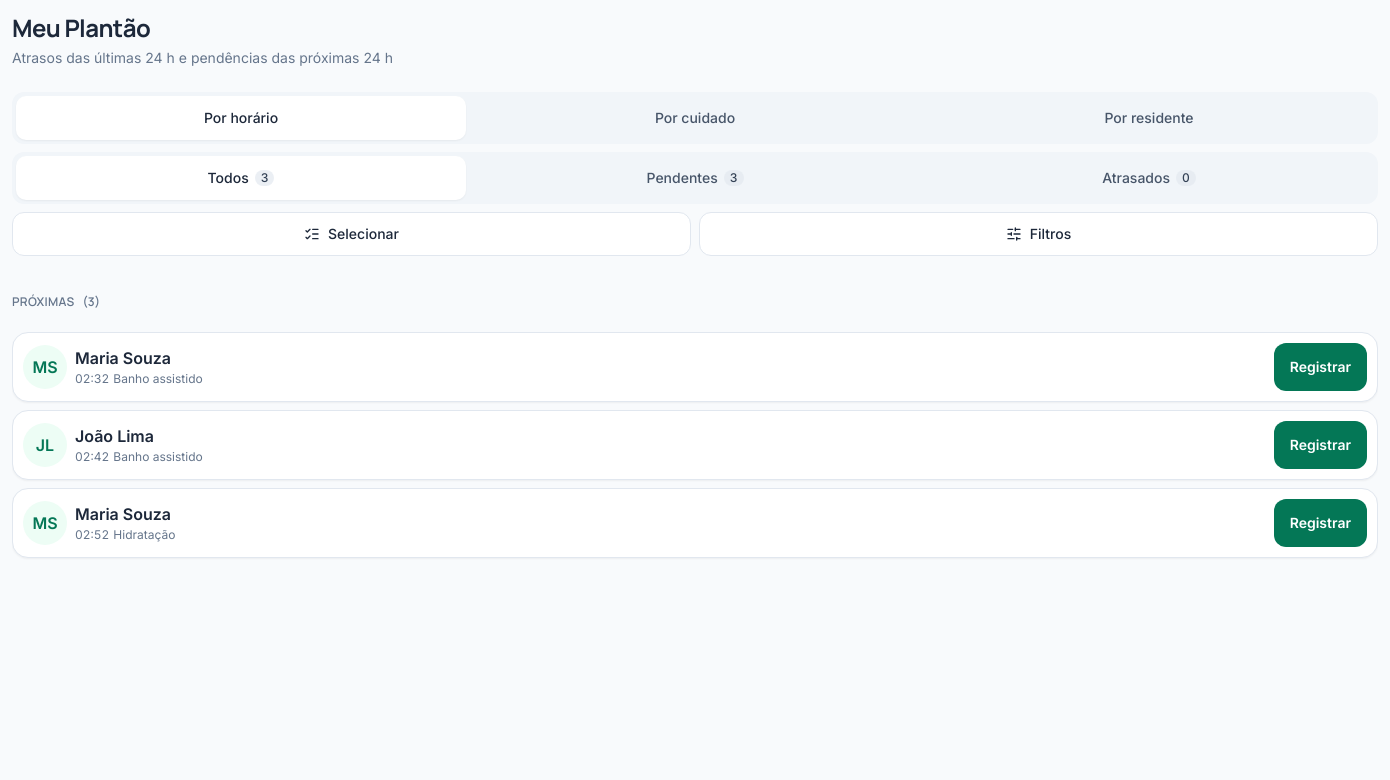
it: UX-01B — seleção múltipla › Por cuidado: "Marcar até 1 h" marca só o grupo e alterna para "Desmarcar todos"
Click the button "Por cuidado" at coordinates (695, 118), box [470,96,920,140]
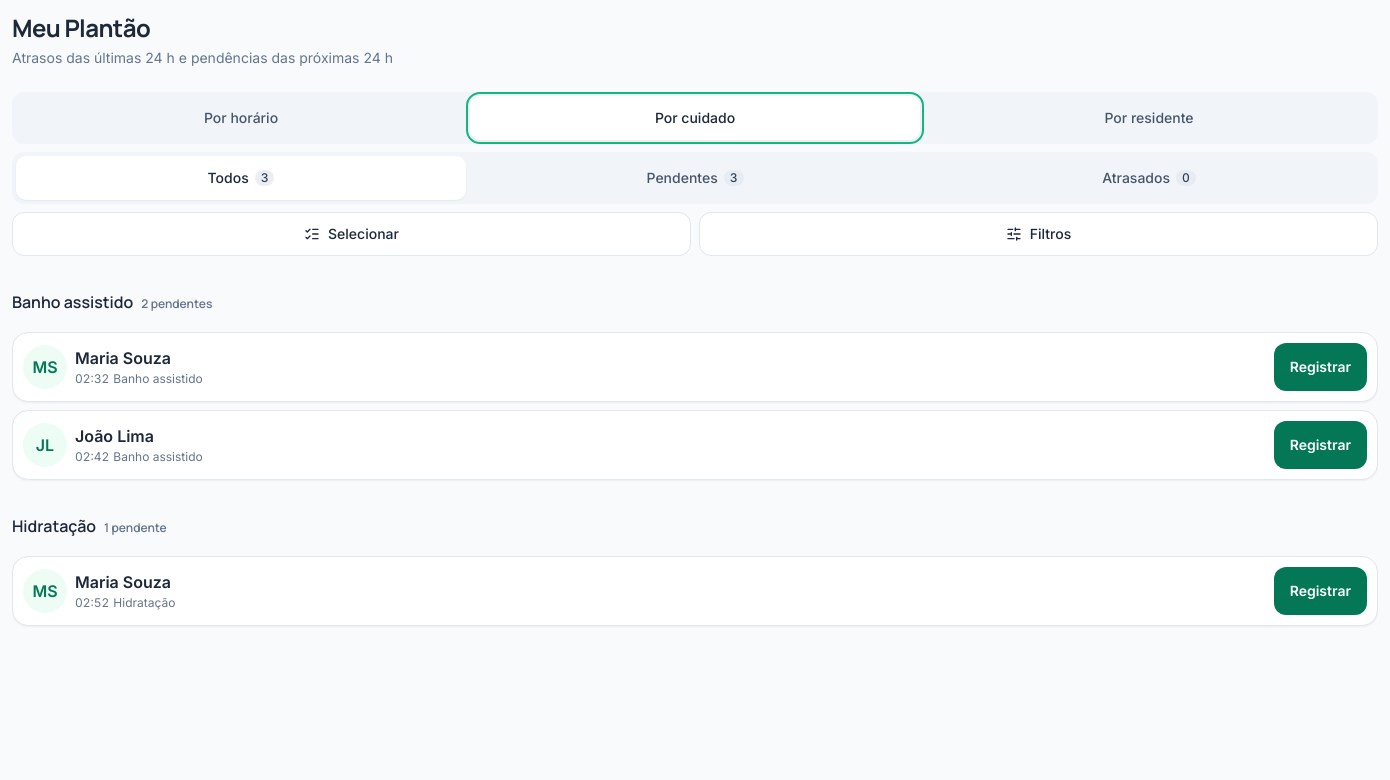
Click the button "Selecionar" at coordinates (352, 234), box [12,212,691,256]
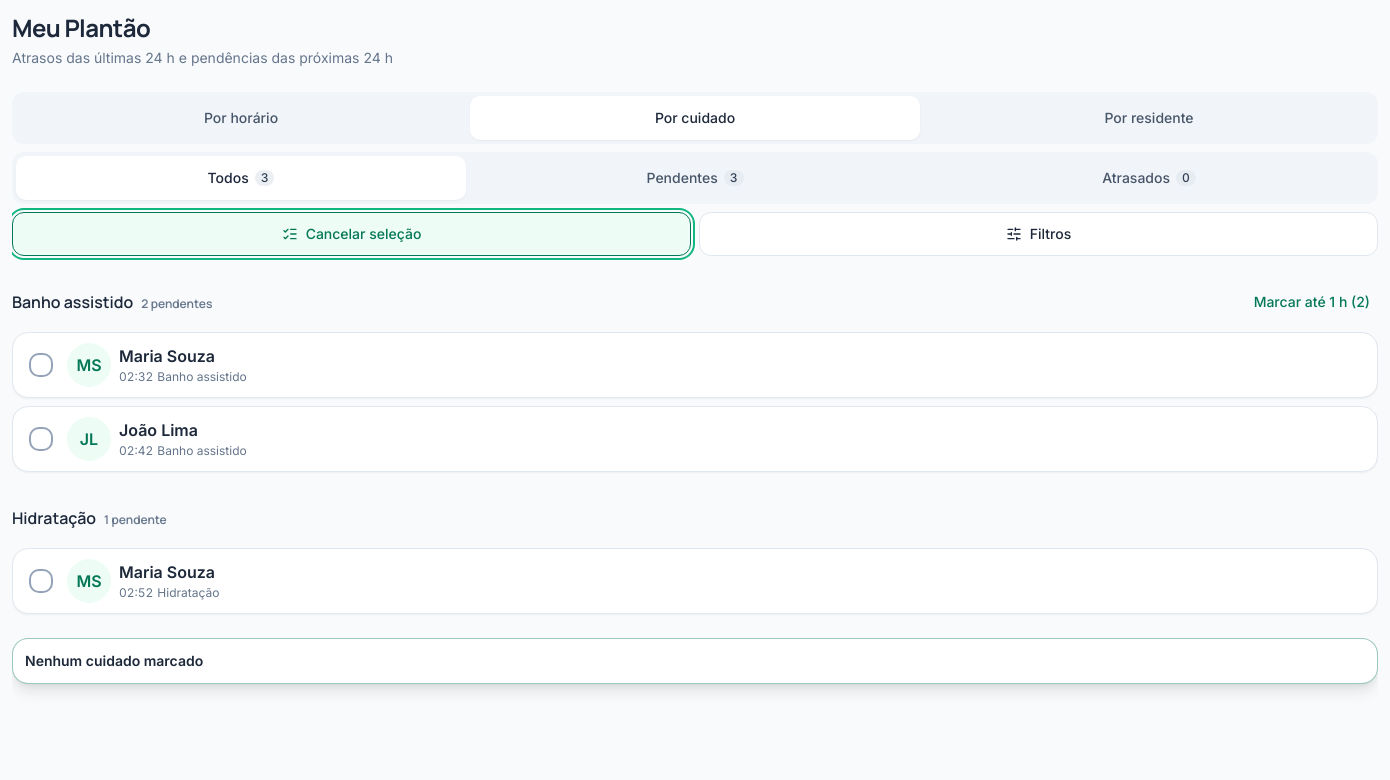
Click the button "Marcar até 1 h (2)" at coordinates (1312, 302), box [1246,280,1378,324]
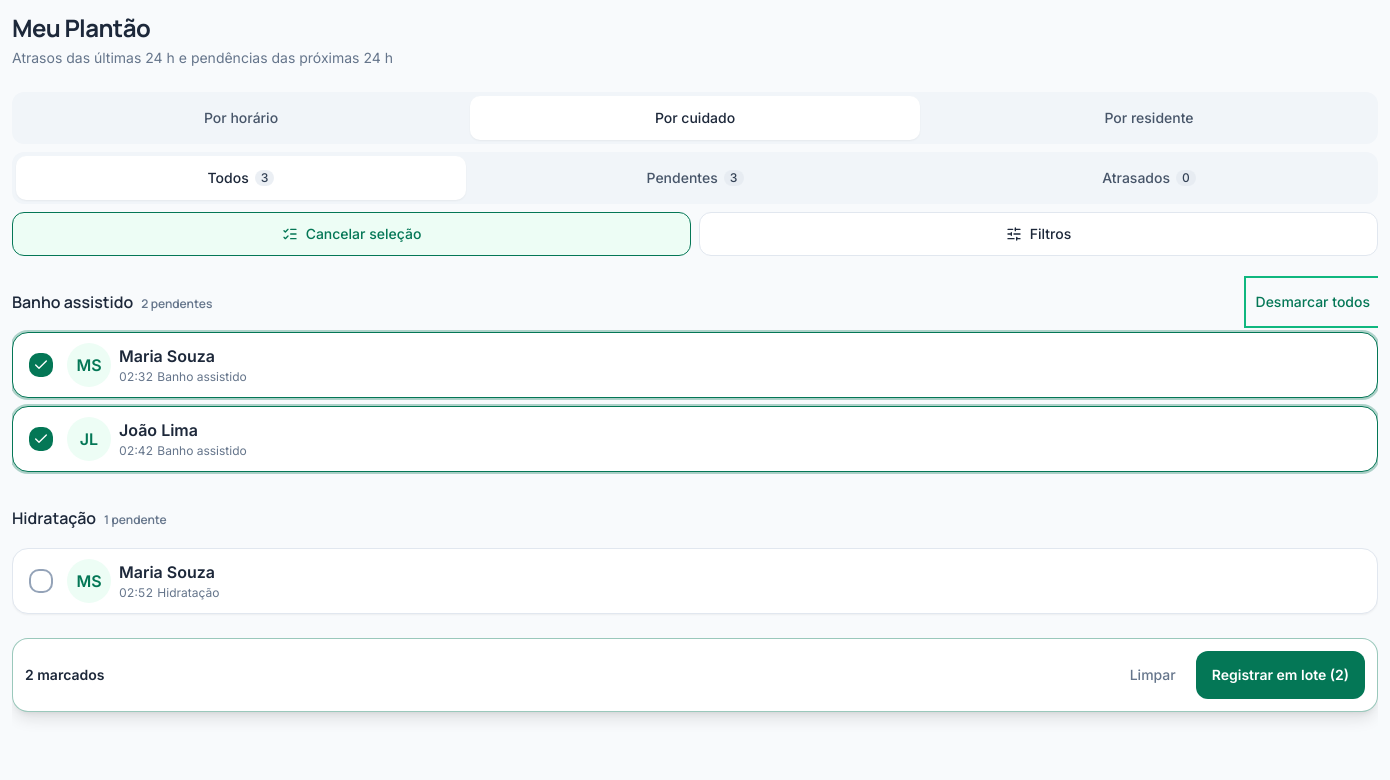
Check: the text "2 marcados" is shown, box [25,666,104,683]
Check: the button "Desmarcar todos" is shown, box [1248,280,1378,324]
